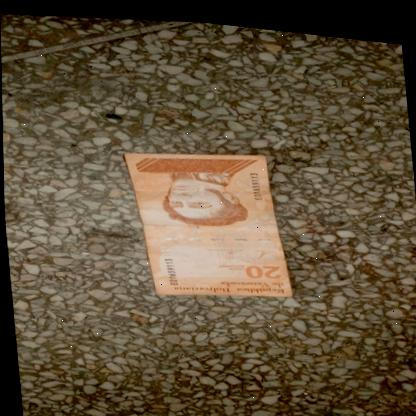twenty-front-vef: (121, 134, 293, 305)
